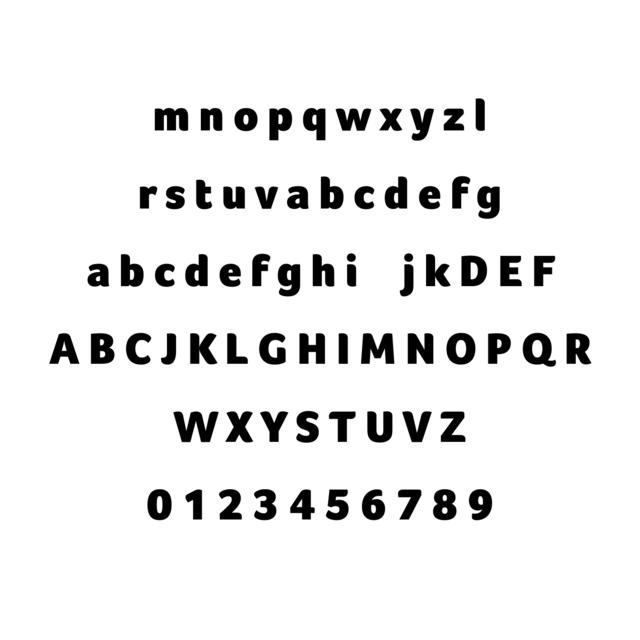alphabet: (355, 333, 399, 365), (518, 332, 557, 367), (171, 410, 208, 444), (444, 332, 478, 367), (145, 486, 173, 528), (49, 332, 83, 366), (402, 411, 435, 443), (405, 332, 436, 366), (258, 332, 288, 366), (260, 410, 290, 444), (298, 332, 328, 366), (225, 410, 255, 444), (432, 488, 460, 524), (328, 410, 358, 443), (275, 262, 301, 300), (366, 410, 395, 444), (563, 332, 591, 367), (124, 332, 152, 367), (266, 106, 294, 141), (409, 106, 436, 142), (317, 174, 344, 210), (252, 487, 278, 524), (458, 256, 488, 288), (484, 332, 512, 366), (335, 106, 373, 131), (468, 487, 495, 522), (476, 183, 502, 219), (325, 488, 351, 524), (359, 487, 385, 522), (383, 174, 408, 210), (217, 488, 242, 524), (439, 410, 467, 442), (154, 106, 191, 130), (296, 410, 322, 444), (302, 106, 328, 140), (288, 487, 314, 521), (187, 332, 213, 366), (183, 254, 208, 289), (90, 333, 117, 365), (396, 488, 422, 520), (498, 256, 524, 287), (450, 174, 472, 210), (530, 256, 554, 288), (250, 253, 271, 289), (227, 333, 250, 365), (233, 106, 260, 131), (183, 488, 204, 520), (378, 106, 404, 131), (160, 332, 178, 367), (199, 333, 218, 366), (87, 262, 111, 288), (198, 106, 224, 130), (254, 187, 280, 211), (285, 186, 309, 211), (222, 185, 247, 209), (219, 264, 243, 288), (443, 107, 467, 131), (418, 186, 441, 211), (165, 184, 187, 210), (196, 178, 214, 209), (353, 186, 375, 211), (155, 263, 177, 288), (138, 186, 158, 210), (336, 332, 350, 365), (345, 253, 358, 288), (434, 262, 451, 288), (473, 96, 485, 132), (423, 252, 435, 287)
